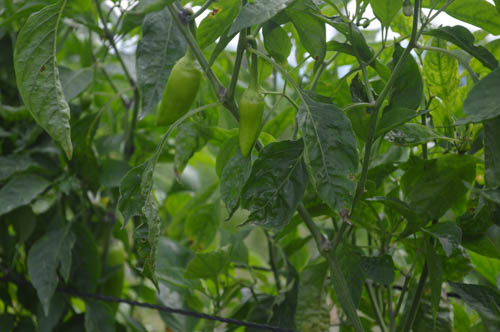ChiliPepper: (157, 63, 206, 125), (236, 95, 268, 156)
